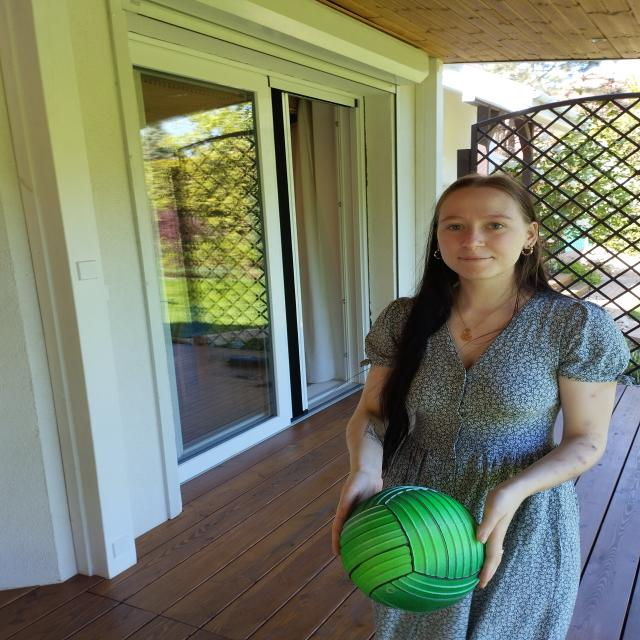zielona: (340, 487, 489, 610)
